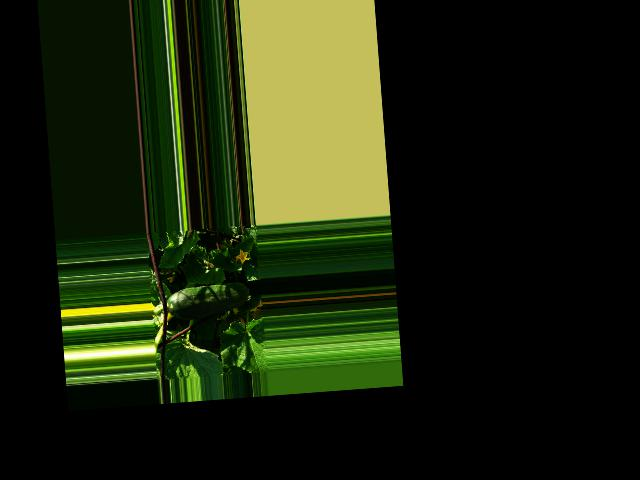cucumber: (166, 281, 251, 322)
